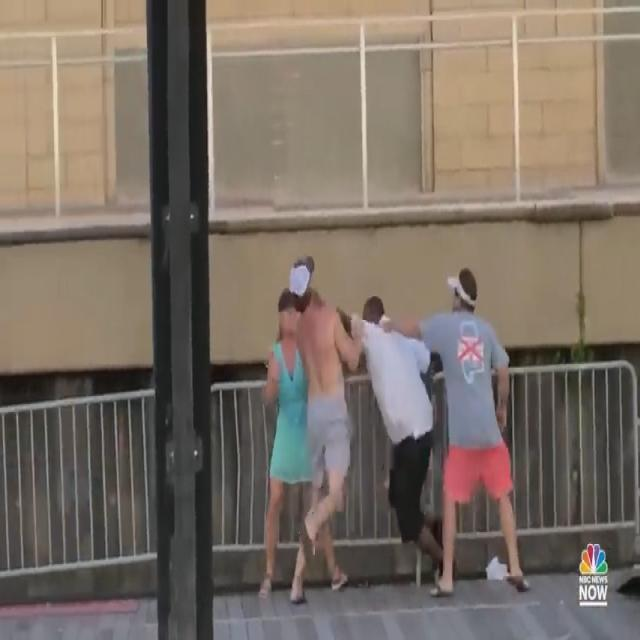fight: (252, 244, 543, 606)
